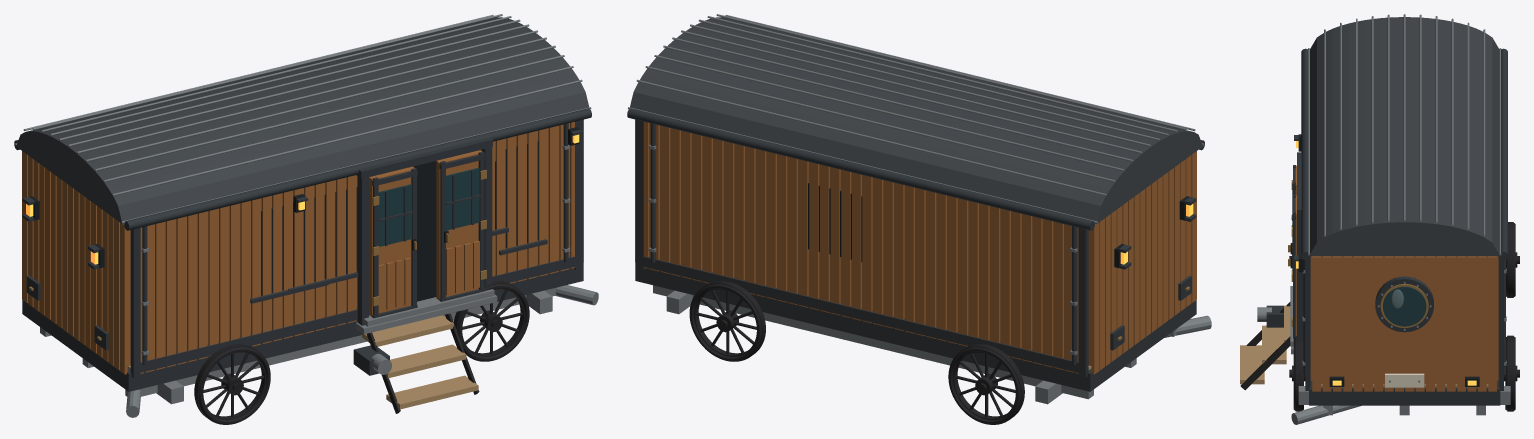
The model's file is drevo.glb.
3 renders of one model, left to right at view 1: azimuth 30°, elevation 25°; view 2: azimuth 150°, elevation 25°; view 3: azimuth 270°, elevation 25°, orthographic. The views are drawn at different scales.
Visible parts, largest first — view 1: One-piece curved standing-seam roof, Insulated floor cassette, Rain gutter, Cast iron spoked wheel, Lower perimeter trim, Wide double-door opening, Cast iron spoked wheel.002, Long side wall near, Door leaf timber panel, Door leaf timber panel.001, Chassis crossmember, Door frame upright (+80 smaller); view 2: One-piece curved standing-seam roof, Insulated floor cassette, Long side wall far, Rain gutter.001, Lower perimeter trim.001, Cast iron spoked wheel.001, Cast iron spoked wheel.003, Chassis crossmember.002, Vertical corner trim.002, Individual vertical timber board.048, Individual vertical timber board.060, Individual vertical timber board.056 (+73 smaller); view 3: One-piece curved standing-seam roof, Rear end wall, Insulated floor cassette, Rain gutter, Rain gutter.001, End vertical cladding board.022, End vertical cladding board.030, End vertical cladding board.019, End vertical cladding board.033, Round porthole glass, End vertical cladding board.018, End vertical cladding board.023 (+44 smaller).
Part boxes in pixels (x1=…): One-piece curved standing-seam roof: x1=16, y1=17, x2=589, y2=224; Insulated floor cassette: x1=22, y1=262, x2=583, y2=391; Rain gutter: x1=124, y1=108, x2=591, y2=230; Cast iron spoked wheel: x1=194, y1=344, x2=270, y2=424; Lower perimeter trim: x1=140, y1=256, x2=575, y2=372; Wide double-door opening: x1=413, y1=150, x2=481, y2=301; Cast iron spoked wheel.002: x1=454, y1=281, x2=529, y2=361; Long side wall near: x1=154, y1=123, x2=569, y2=357; Door leaf timber panel: x1=369, y1=166, x2=414, y2=316; Door leaf timber panel.001: x1=436, y1=150, x2=481, y2=300; Chassis crossmember: x1=125, y1=287, x2=557, y2=396; Door frame upright: x1=357, y1=168, x2=368, y2=325; One-piece curved standing-seam roof: x1=630, y1=17, x2=1202, y2=224; Insulated floor cassette: x1=635, y1=262, x2=1196, y2=391; Long side wall far: x1=649, y1=123, x2=1064, y2=357; Rain gutter.001: x1=627, y1=108, x2=1094, y2=230; Lower perimeter trim.001: x1=643, y1=256, x2=1078, y2=372; Cast iron spoked wheel.001: x1=948, y1=344, x2=1024, y2=424; Cast iron spoked wheel.003: x1=689, y1=281, x2=765, y2=361; Chassis crossmember.002: x1=653, y1=285, x2=1093, y2=399; Vertical corner trim.002: x1=1078, y1=228, x2=1088, y2=377; Individual vertical timber board.048: x1=1011, y1=211, x2=1021, y2=359; Individual vertical timber board.060: x1=883, y1=180, x2=893, y2=328; Individual vertical timber board.056: x1=926, y1=190, x2=936, y2=338; One-piece curved standing-seam roof: x1=1309, y1=17, x2=1499, y2=256; Rear end wall: x1=1321, y1=256, x2=1488, y2=384; Insulated floor cassette: x1=1309, y1=380, x2=1500, y2=405; Rain gutter: x1=1301, y1=48, x2=1309, y2=259; Rain gutter.001: x1=1499, y1=48, x2=1507, y2=259; End vertical cladding board.022: x1=1353, y1=256, x2=1362, y2=391; End vertical cladding board.030: x1=1436, y1=256, x2=1445, y2=391; End vertical cladding board.019: x1=1322, y1=256, x2=1331, y2=391; End vertical cladding board.033: x1=1467, y1=256, x2=1476, y2=391; Round porthole glass: x1=1383, y1=286, x2=1426, y2=326; End vertical cladding board.018: x1=1312, y1=256, x2=1320, y2=391; End vertical cladding board.023: x1=1364, y1=256, x2=1372, y2=391.
Size of the model in its own units: 6.18 by 3.2 by 3.43.
